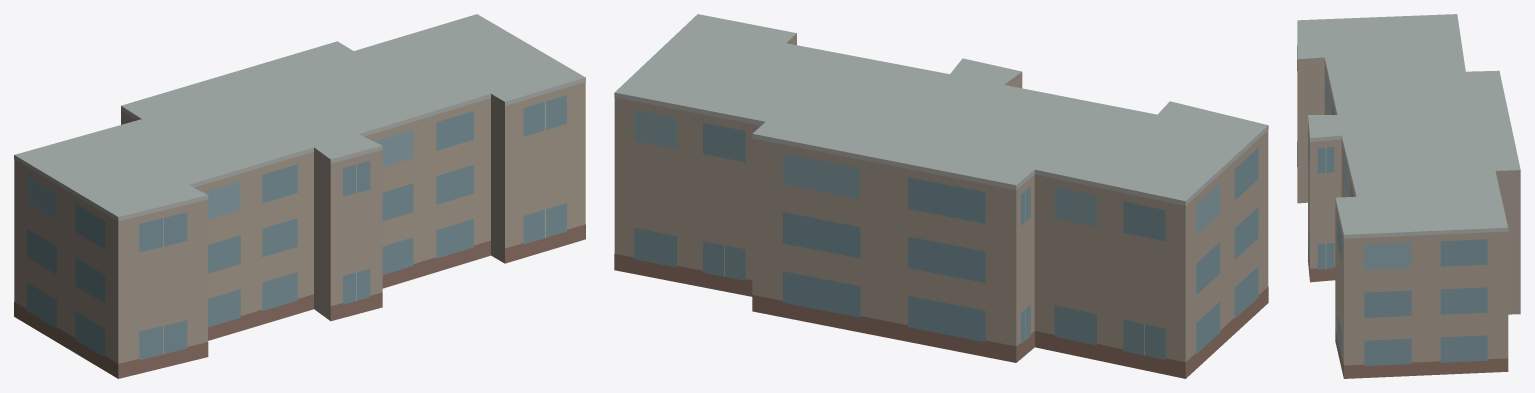
The model's file is survey-upis-32693870.glb.
3 views of the same model, side by side, from view 1: azimuth 30°, elevation 25°; view 2: azimuth 150°, elevation 25°; view 3: azimuth 270°, elevation 25° (orthographic). The views are drawn at different scales.
Visible parts, largest first — view 1: survey-upis-32693870.tmp; view 2: survey-upis-32693870.tmp; view 3: survey-upis-32693870.tmp.
Part boxes in pixels (x1=…): survey-upis-32693870.tmp: x1=14, y1=14, x2=585, y2=378; survey-upis-32693870.tmp: x1=614, y1=14, x2=1268, y2=378; survey-upis-32693870.tmp: x1=1297, y1=14, x2=1520, y2=378.
Size of the model in its own units: 30.08 by 9.15 by 12.87.
